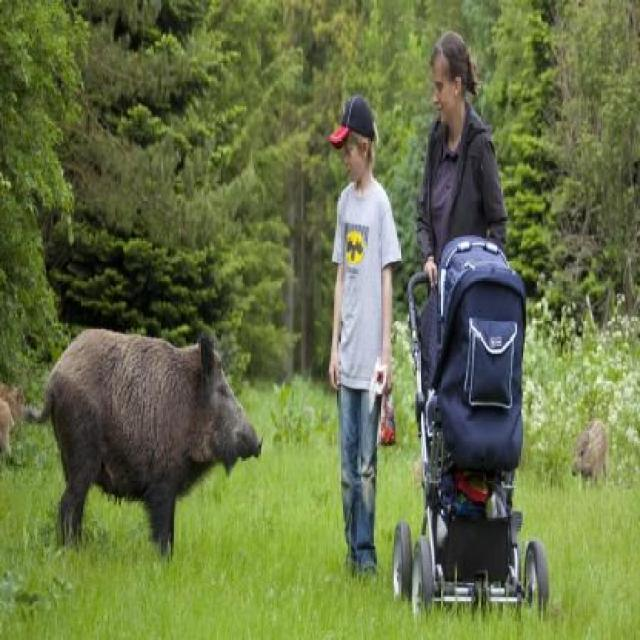wildboar: (23, 320, 265, 563), (569, 414, 613, 500), (0, 375, 31, 431), (0, 394, 15, 462)
